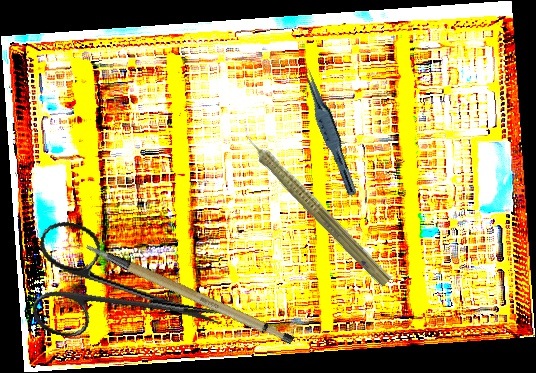Handpiece: (230, 118, 398, 290)
Iris Scissors: (20, 217, 240, 371)
Scalpel Handle: (85, 212, 297, 371)
Tissue Forceps: (295, 64, 365, 198)
